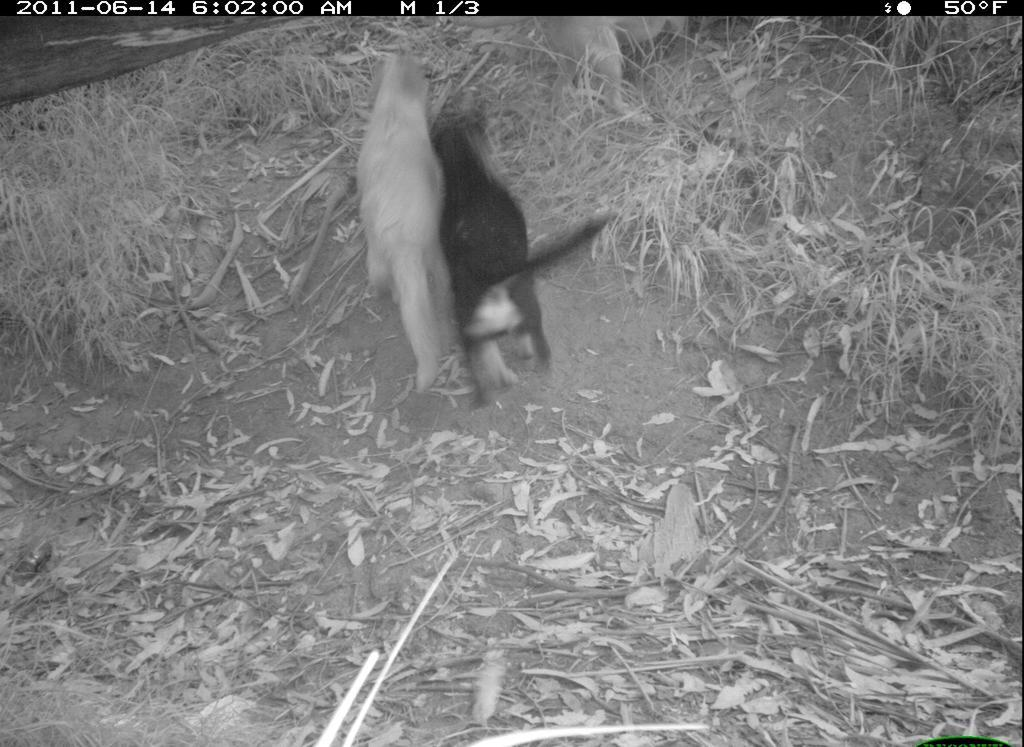dog: (424, 101, 621, 378)
